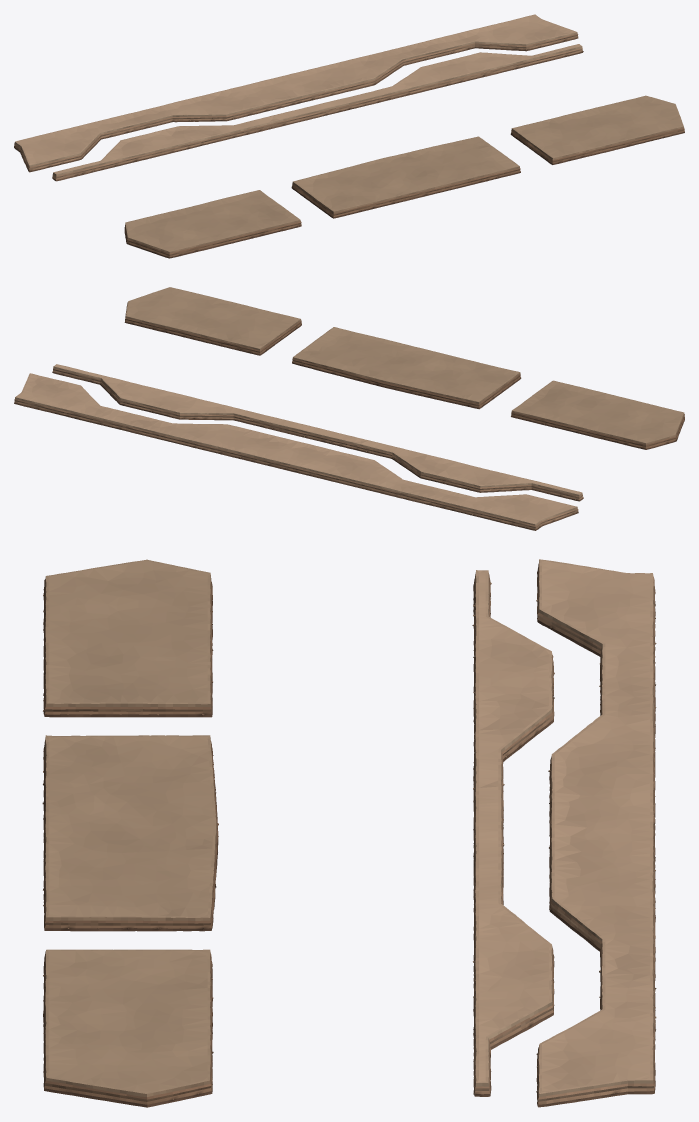
Rendered from map_01_rocks.glb.
3 renders of one model, top to bottom at view 1: azimuth 30°, elevation 25°; view 2: azimuth 150°, elevation 25°; view 3: azimuth 270°, elevation 25°, orthographic. The views are drawn at different scales.
Visible parts, largest first — view 1: RockCanyonNorth, RidgeCentre, RockCanyonSouth, RidgeWest, RidgeEast; view 2: RockCanyonNorth, RidgeCentre, RockCanyonSouth, RidgeEast, RidgeWest; view 3: RockCanyonNorth, RidgeCentre, RidgeEast, RidgeWest, RockCanyonSouth.
Boxes of the visible parts, <box> form: RockCanyonNorth: <box>14,14,578,172</box>; RidgeCentre: <box>291,136,520,218</box>; RockCanyonSouth: <box>52,44,583,181</box>; RidgeWest: <box>124,190,301,258</box>; RidgeEast: <box>510,95,684,164</box>; RockCanyonNorth: <box>14,373,578,530</box>; RidgeCentre: <box>292,327,521,409</box>; RockCanyonSouth: <box>52,364,583,501</box>; RidgeEast: <box>124,287,301,355</box>; RidgeWest: <box>511,380,684,449</box>; RockCanyonNorth: <box>536,559,656,1107</box>; RidgeCentre: <box>42,735,218,931</box>; RidgeEast: <box>43,949,213,1107</box>; RidgeWest: <box>43,559,213,717</box>; RockCanyonSouth: <box>472,570,554,1096</box>.
Bounding box in the file's own units: 201 × 2.33 × 97.07.
